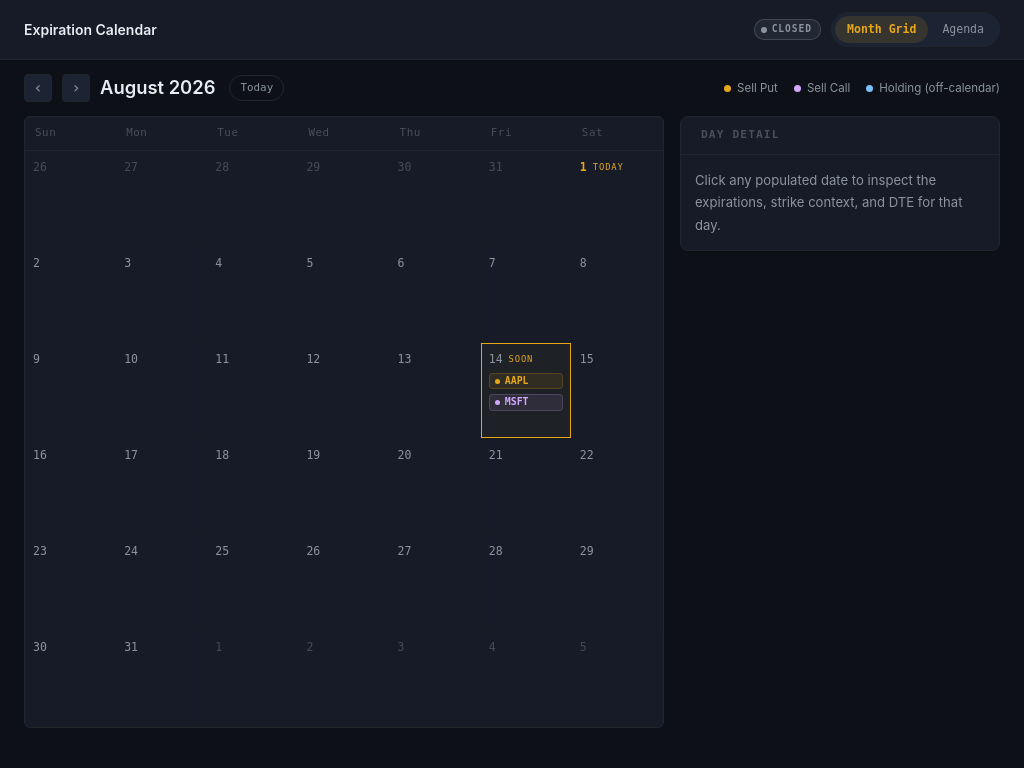
Test: CalendarPage › advances and rewinds the visible month with the nav controls (grid)
The image size is (1024, 768).
expect the text "August 2026" is shown: met, box [100,74,216,102]
What coordinates should you click on to do the following:
click the button "›"
I would click on:
 (76, 88)
Its box is [62,74,90,102].
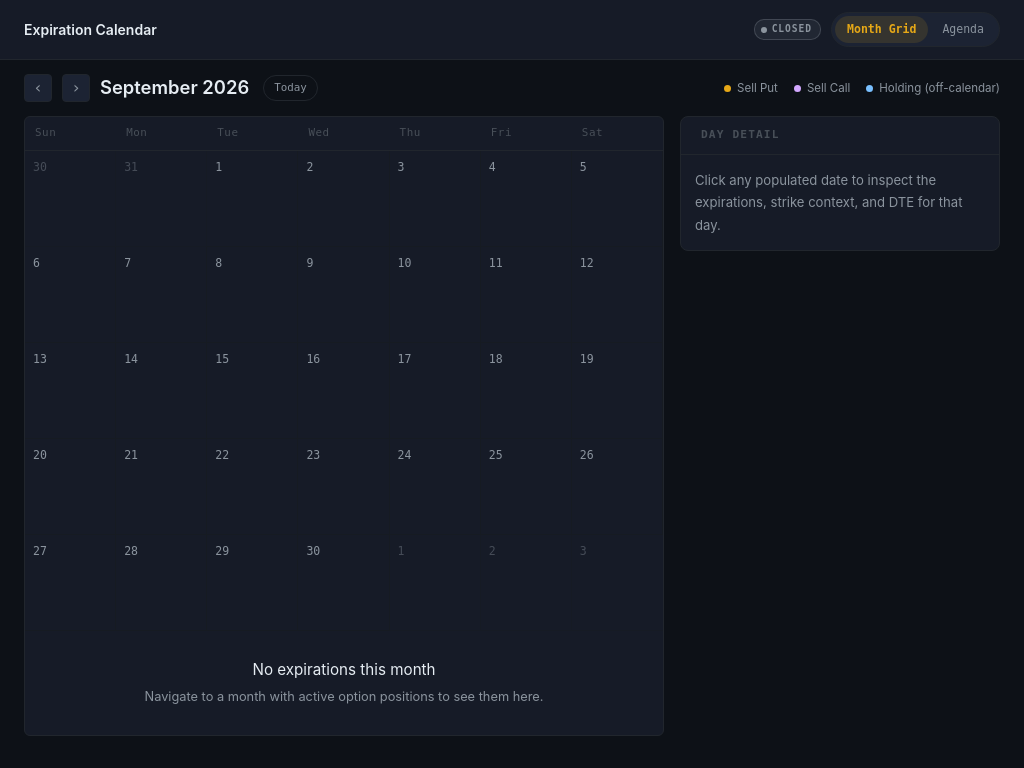
expect the text "September 2026" is shown: met, box [100,74,249,102]
What coordinates should you click on to do the following:
click the button "‹"
I would click on:
 (38, 88)
Its box is [24,74,52,102].
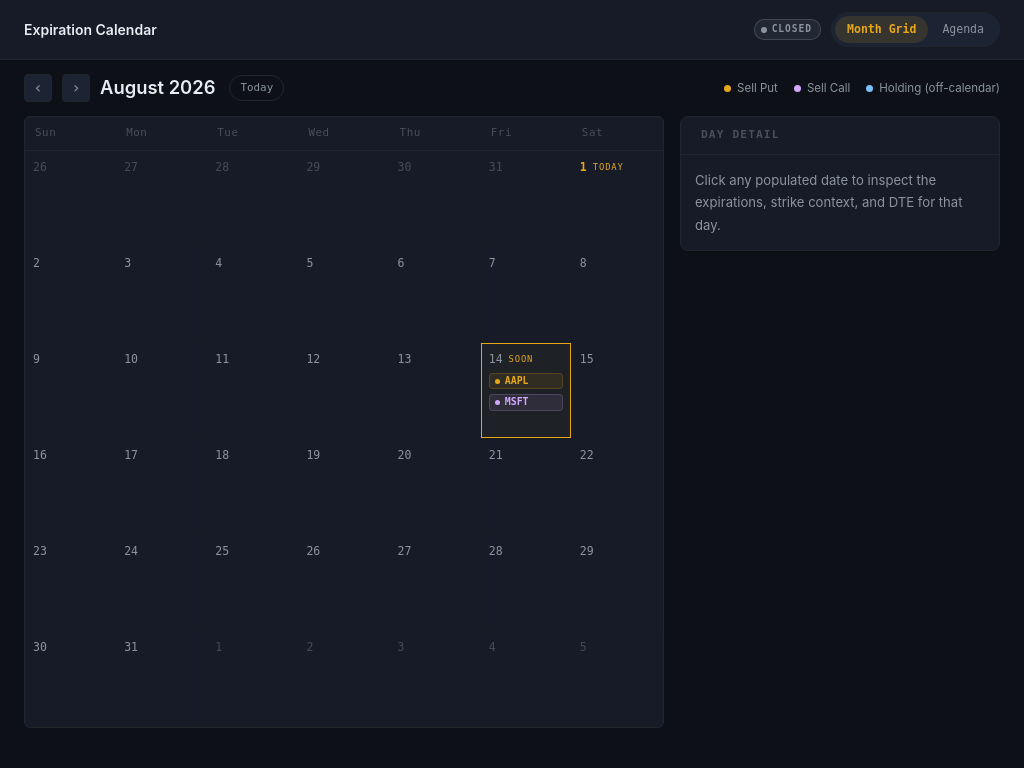
What coordinates should you click on to do the following:
click the button "‹"
I would click on:
 (38, 88)
Its box is [24,74,52,102].
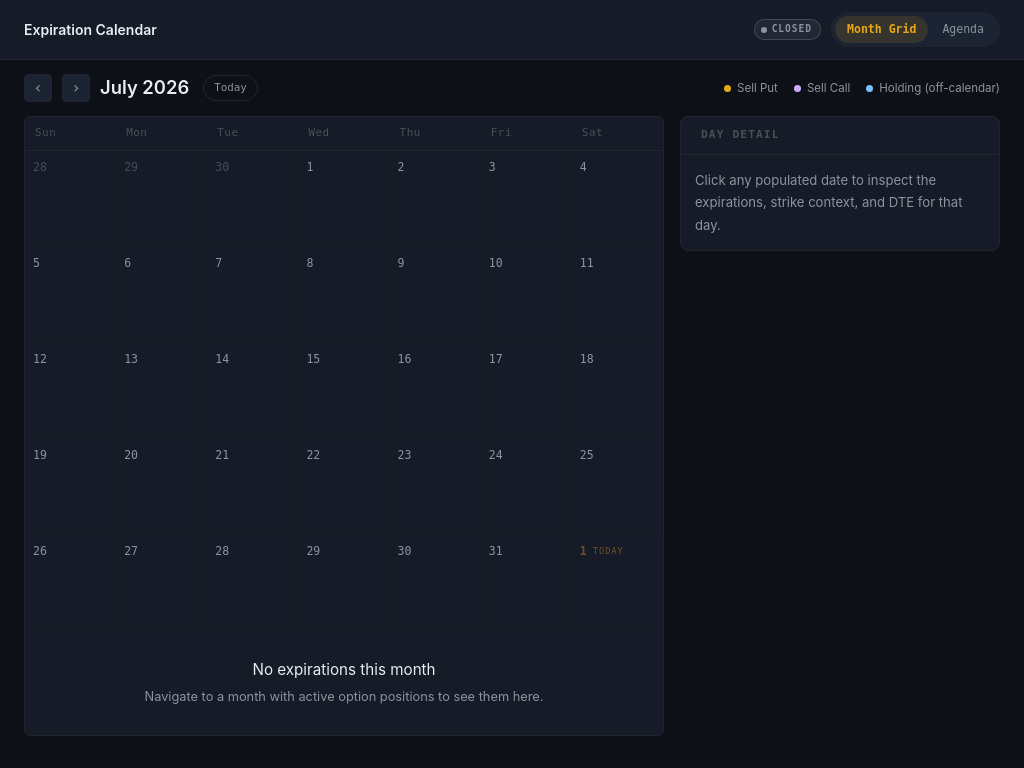
expect the text "July 2026" is shown: met, box [100,74,189,102]
